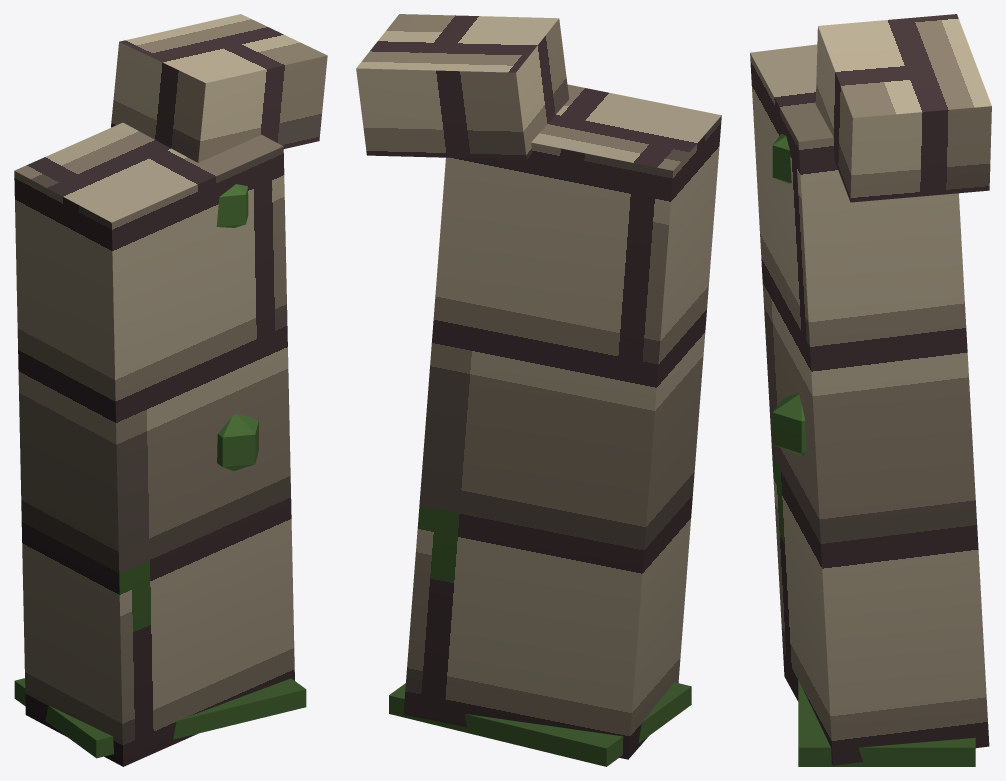
File: standing_stone.glb
3 renders of one model, left to right at view 1: azimuth 30°, elevation 25°; view 2: azimuth 150°, elevation 25°; view 3: azimuth 270°, elevation 25°, orthographic. The views are drawn at different scales.
Visible parts, largest first — view 1: standing_stone; view 2: standing_stone; view 3: standing_stone.
Boxes of the visible parts, x1,y1,x2,y2 form: standing_stone: [14, 14, 327, 766]; standing_stone: [356, 14, 721, 766]; standing_stone: [750, 14, 991, 766].
Size of the model in its own units: 1.02 by 2.18 by 0.6821.
Materials: 2 (1 with a texture image).
